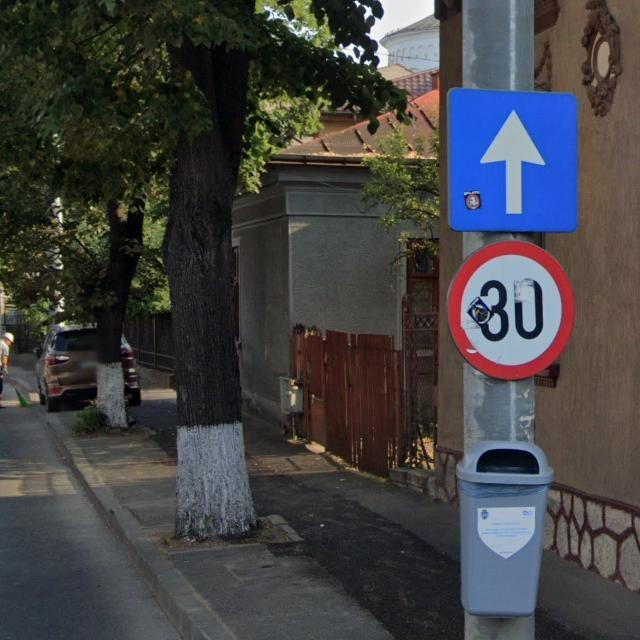forb_speed_over_30: (444, 239, 572, 382)
